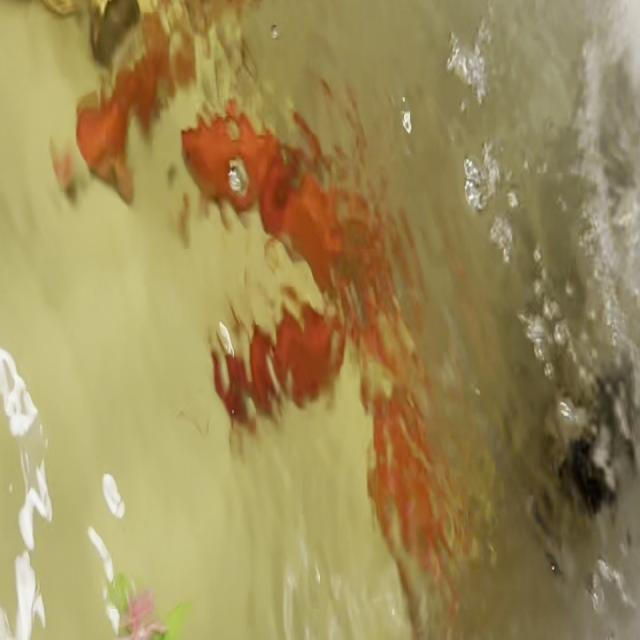fish: (70, 25, 172, 196)
